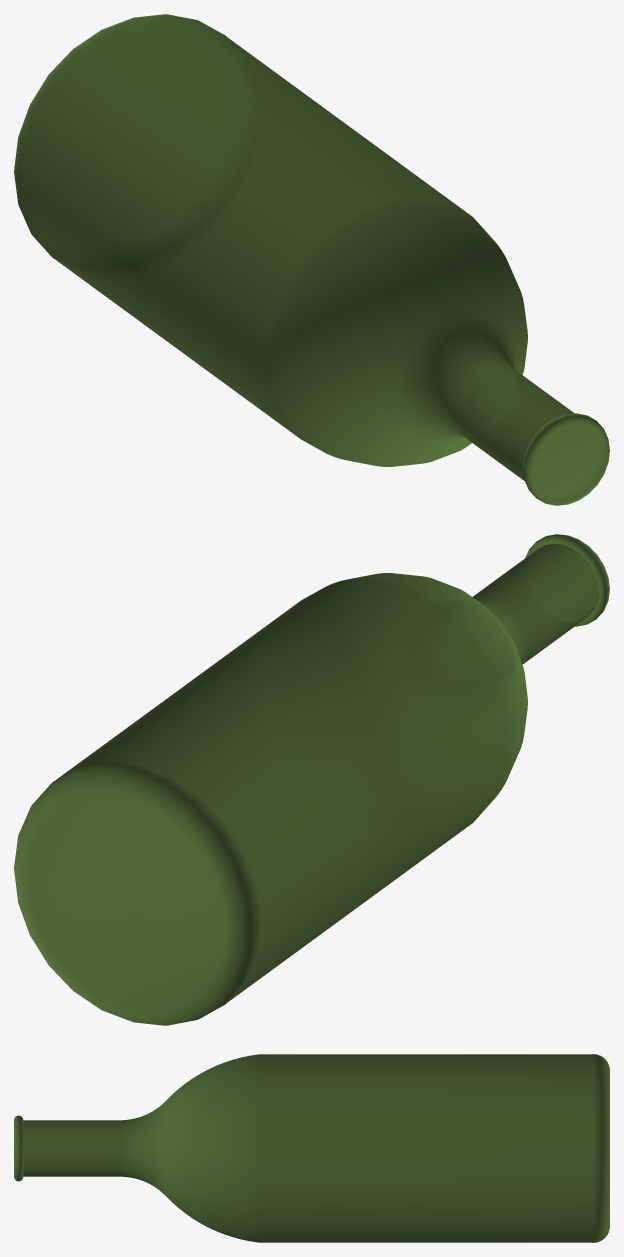
Rendered from model_align.obj.
3 renders of one model, top to bottom at view 1: azimuth 30°, elevation 25°; view 2: azimuth 150°, elevation 25°; view 3: azimuth 270°, elevation 25°, orthographic. The views are drawn at different scales.
Visible parts, largest first — view 1: mesh1_mesh1-geometry; view 2: mesh1_mesh1-geometry; view 3: mesh1_mesh1-geometry.
Part boxes in pixels (x1,y1,x2,y2): mesh1_mesh1-geometry: (14,14,609,505); mesh1_mesh1-geometry: (14,534,609,1025); mesh1_mesh1-geometry: (14,1054,609,1242).
Size of the model in its own units: 0.085 by 0.085 by 0.2674.
